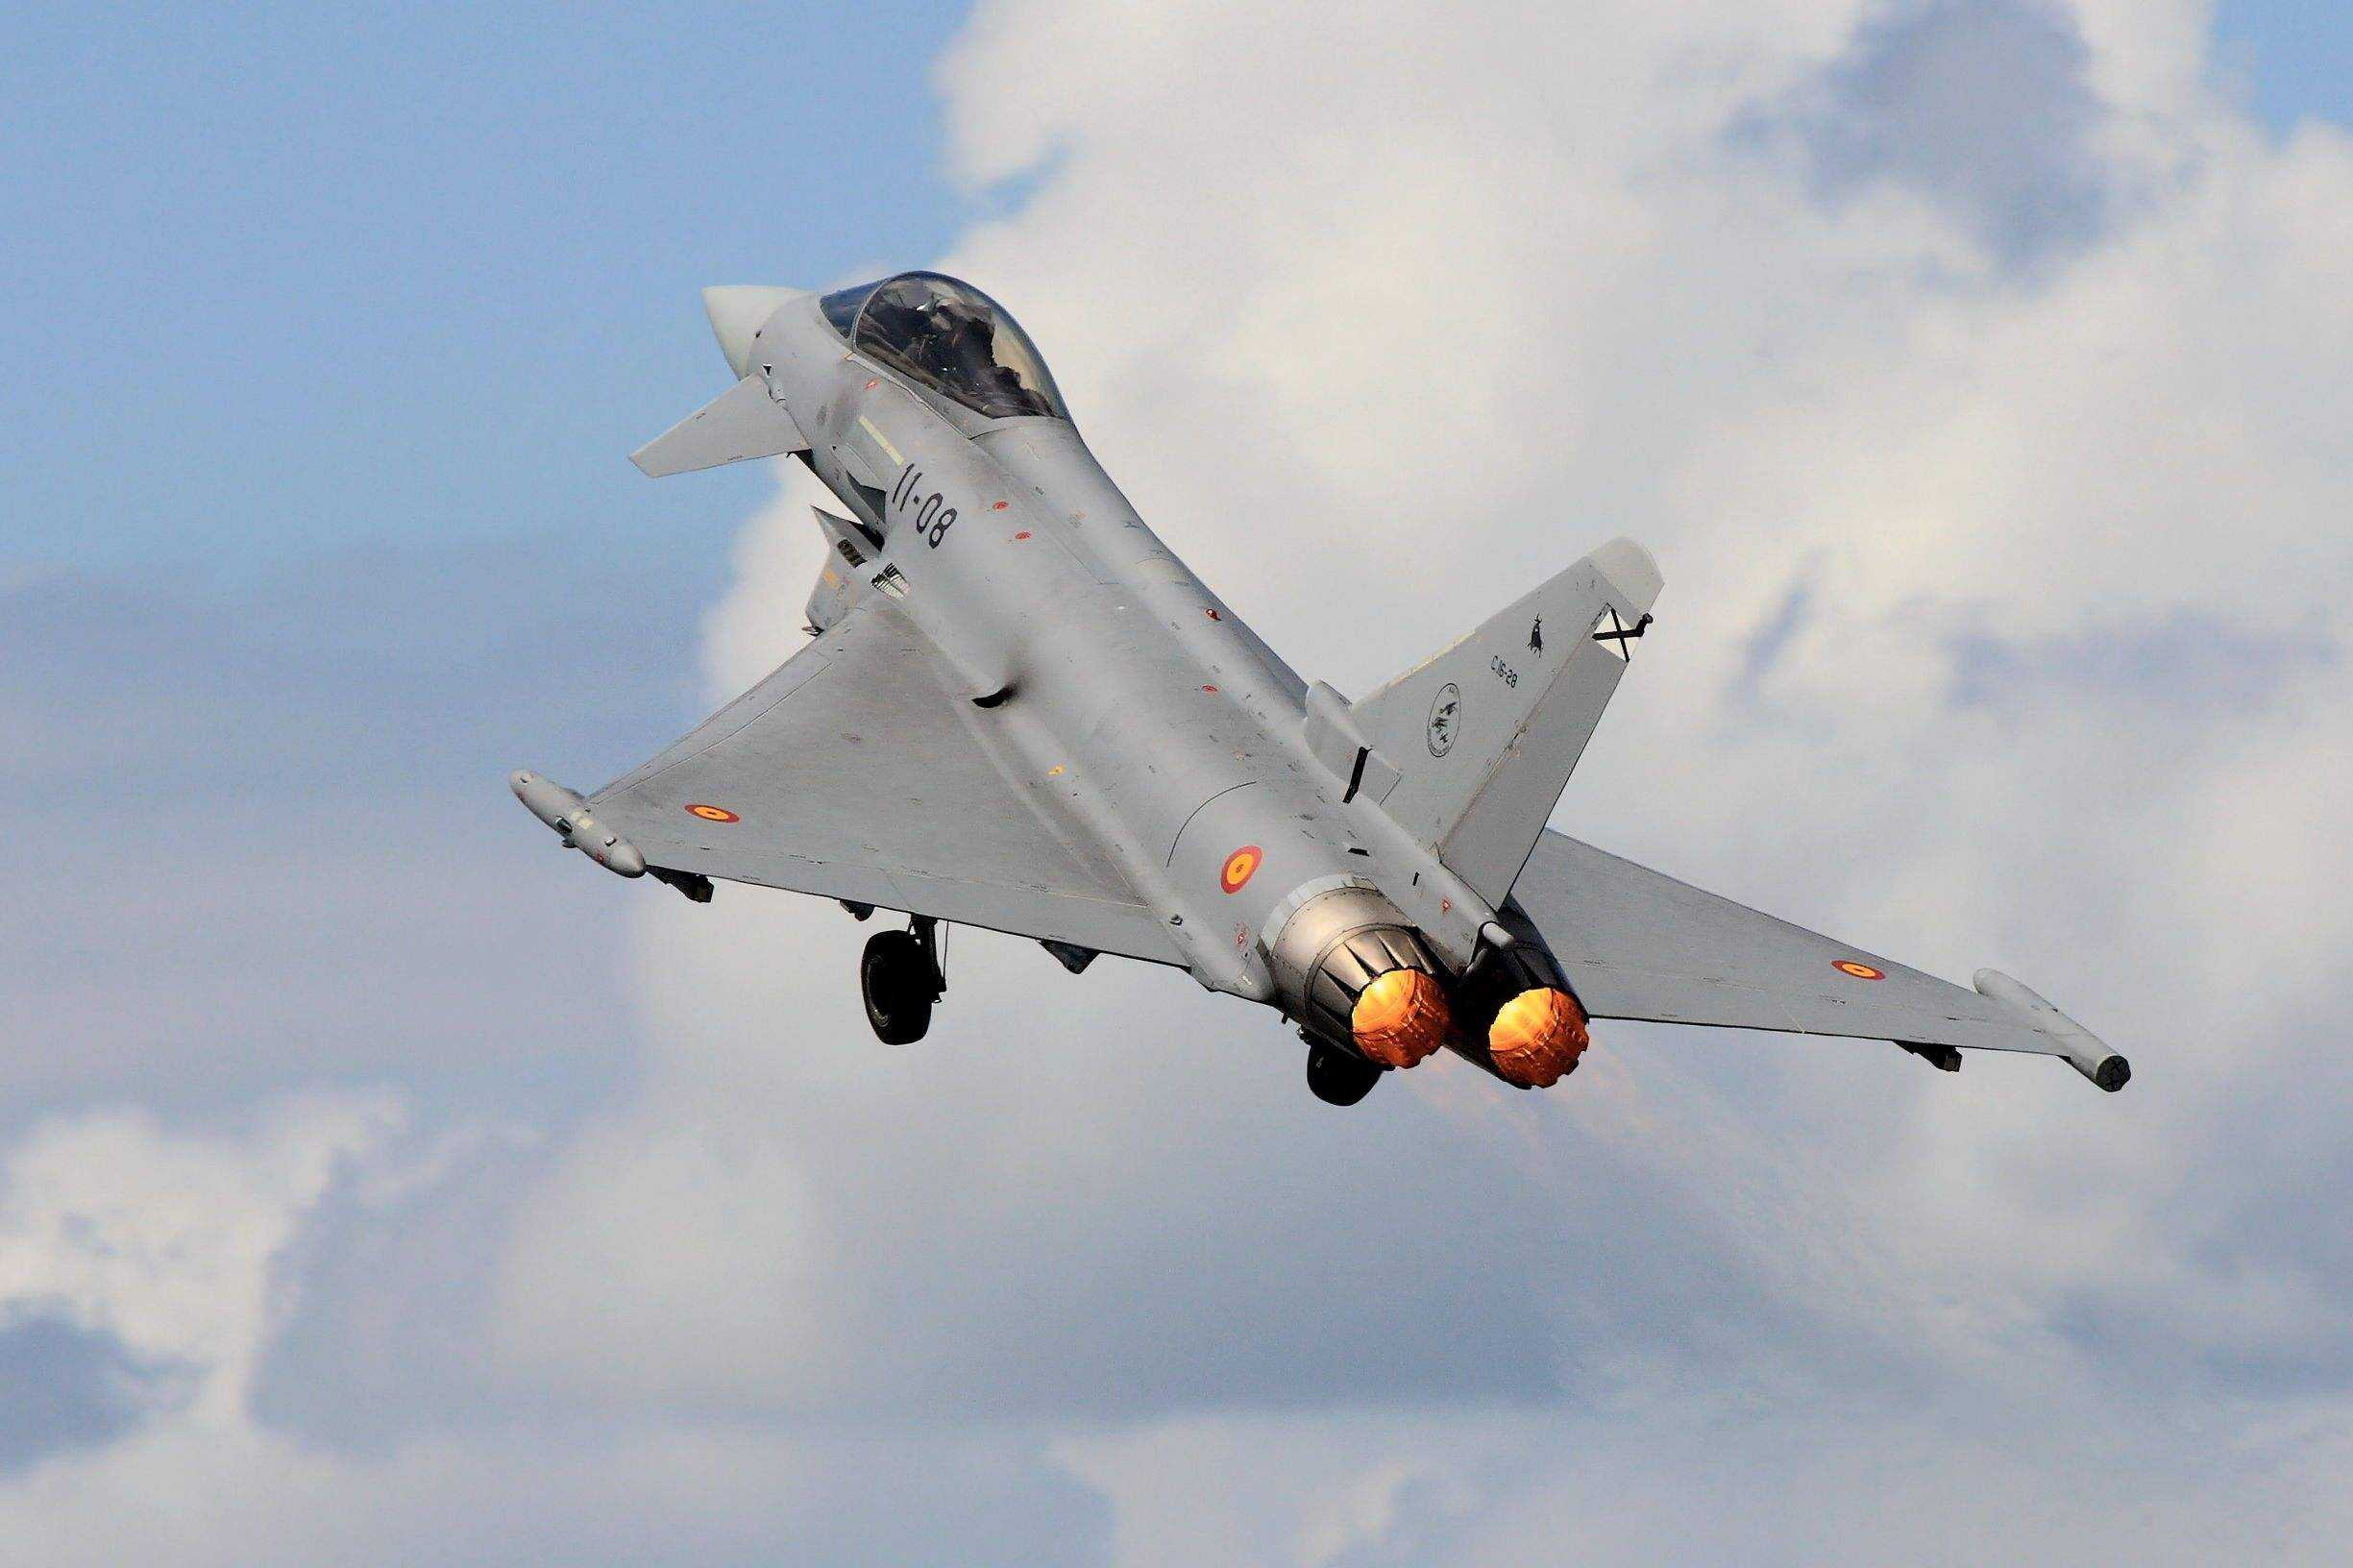fighter: (465, 222, 2192, 1179)
